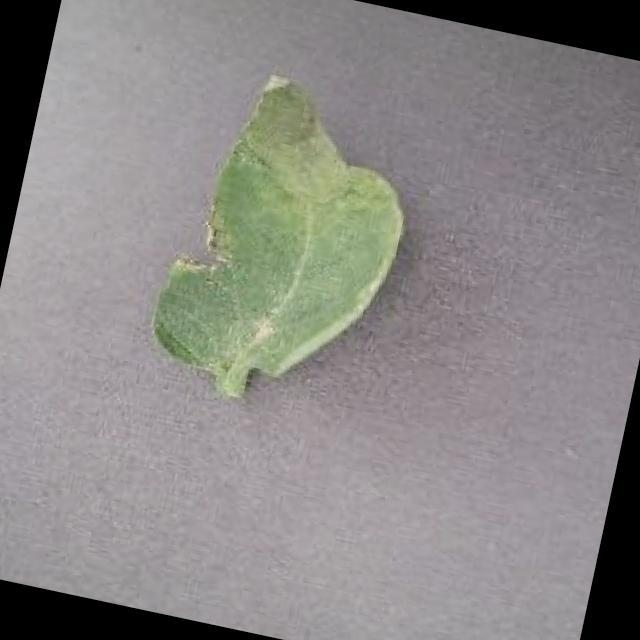Tomato late blight leaf: (145, 60, 430, 413)
